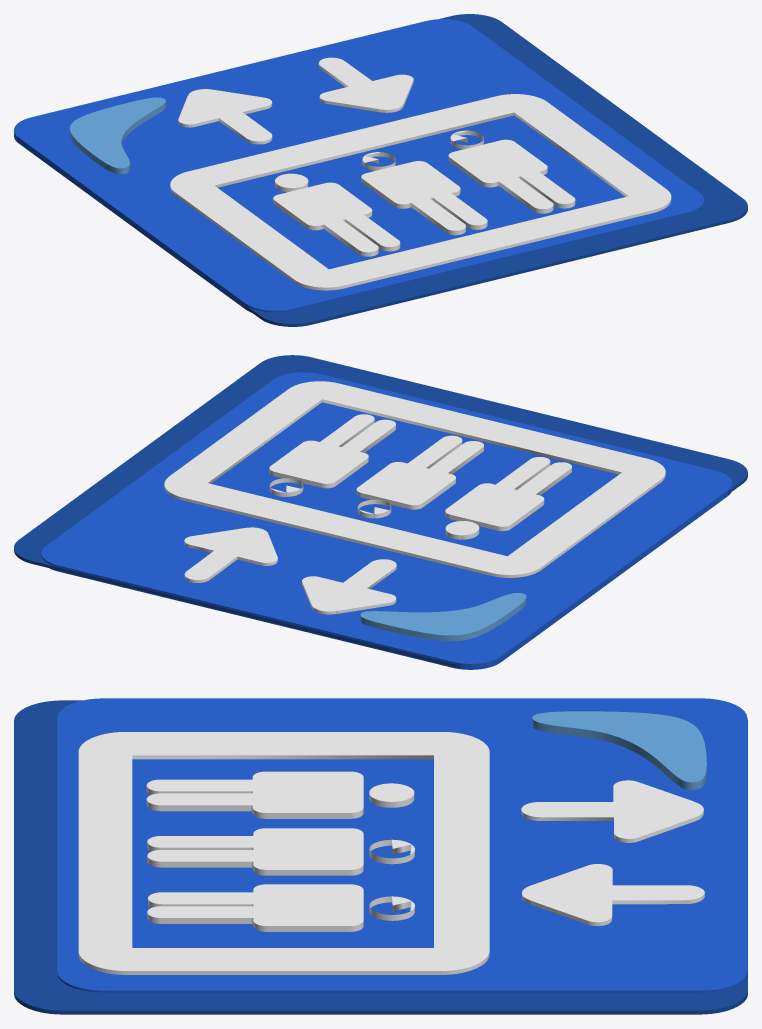
Rendered from emoji_u1f6d7.glb.
The picture shows the model from 3 angles, top to bottom: view 1: azimuth 30°, elevation 25°; view 2: azimuth 150°, elevation 25°; view 3: azimuth 270°, elevation 25°; orthographic projection. The views are drawn at different scales.
Visible parts, largest first — view 1: emoji_u1f6d7; view 2: emoji_u1f6d7; view 3: emoji_u1f6d7.
Boxes of the visible parts, x1,y1,x2,y2 form: emoji_u1f6d7: (14,14,747,326); emoji_u1f6d7: (14,355,747,669); emoji_u1f6d7: (14,698,747,1014).
Size of the model in its own units: 0.0339 by 0.0012 by 0.0339.
